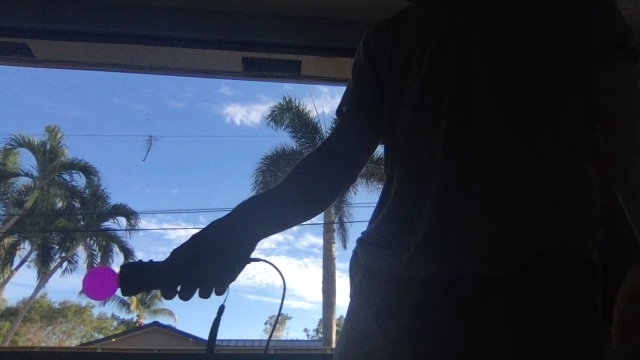wand: (84, 265, 118, 300)
